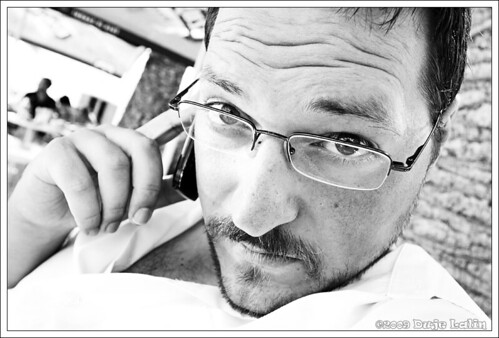phone: (156, 95, 210, 211)
talk: (23, 22, 416, 314)
